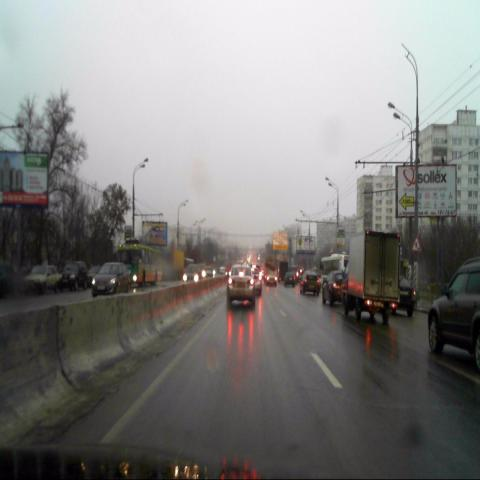1_25: (411, 234, 422, 253)
